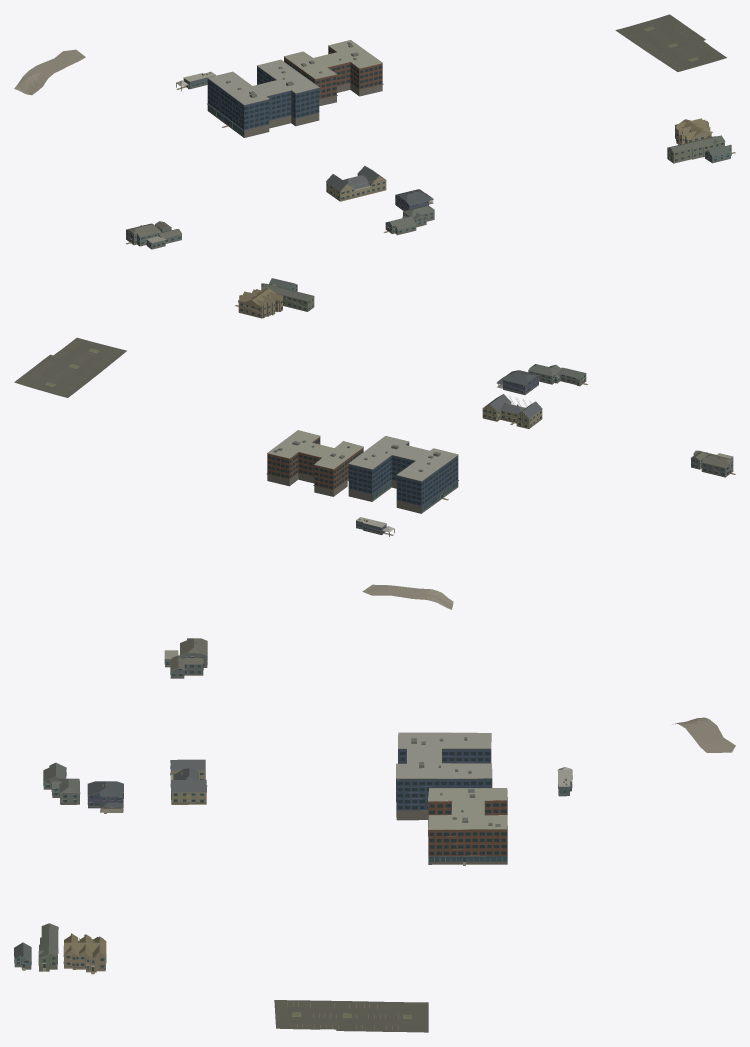
File: site.glb
The picture shows the model from 3 angles, top to bottom: view 1: azimuth 30°, elevation 25°; view 2: azimuth 150°, elevation 25°; view 3: azimuth 270°, elevation 25°; orthographic projection. The views are drawn at different scales.
Visible parts, largest first — view 1: roof-ff477fc4, villard-orchard-walnut-paving, roof-ad5fa585, roof-a8dfe433, roof-f1c8315b, walnut-1576, villard-1545, roof-72680a29, roof-80b6187a, roof-6096c458; view 2: roof-ff477fc4, villard-orchard-walnut-paving, roof-ad5fa585, roof-a8dfe433, roof-72680a29, roof-f1c8315b, villard-1545, roof-80b6187a, walnut-1576; view 3: roof-ff477fc4, roof-ad5fa585, villard-orchard-walnut-paving, roof-a8dfe433, roof-72680a29, roof-f1c8315b, villard-1545, roof-80b6187a, walnut-1576.
Part boxes in pixels (x1,y1,x2,y2): roof-ff477fc4: (207,59,319,137); villard-orchard-walnut-paving: (14,14,735,244); roof-ad5fa585: (284,40,383,105); roof-a8dfe433: (326,166,386,201); roof-f1c8315b: (126,221,181,249); walnut-1576: (667,135,725,163); villard-1545: (385,205,434,235); roof-72680a29: (675,118,711,144); roof-80b6187a: (395,189,433,210); roof-6096c458: (176,71,215,91); roof-ff477fc4: (348,436,458,513); villard-orchard-walnut-paving: (14,305,735,609); roof-ad5fa585: (266,430,363,496); roof-a8dfe433: (482,394,542,428); roof-72680a29: (238,288,282,318); roof-f1c8315b: (690,450,733,477); villard-1545: (528,364,586,386); roof-80b6187a: (496,370,539,394); walnut-1576: (261,283,314,311); roof-ff477fc4: (396,732,492,820); roof-ad5fa585: (427,788,507,864); villard-orchard-walnut-paving: (22,717,735,1032); roof-a8dfe433: (170,759,206,804); roof-72680a29: (63,933,106,973); roof-f1c8315b: (164,638,207,678); villard-1545: (43,762,80,804); roof-80b6187a: (87,781,123,811); walnut-1576: (38,923,58,971).
Bounding box in the file's own units: 424 × 30.09 × 331.
